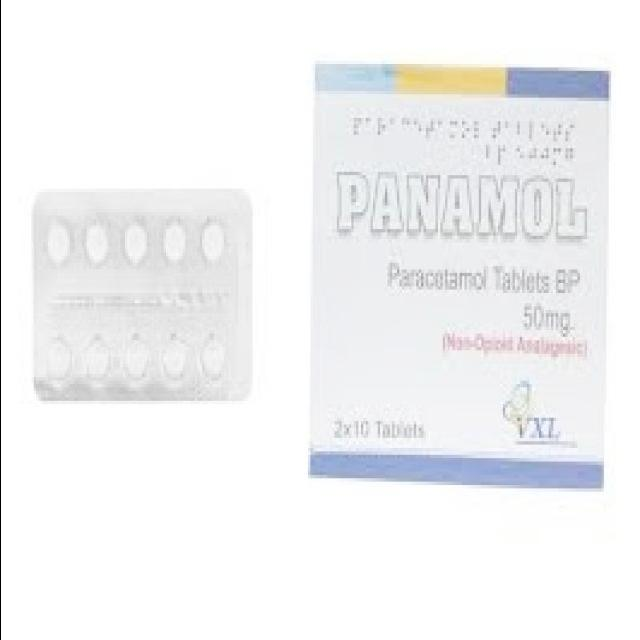authentic: (306, 50, 614, 497), (27, 177, 259, 408)
